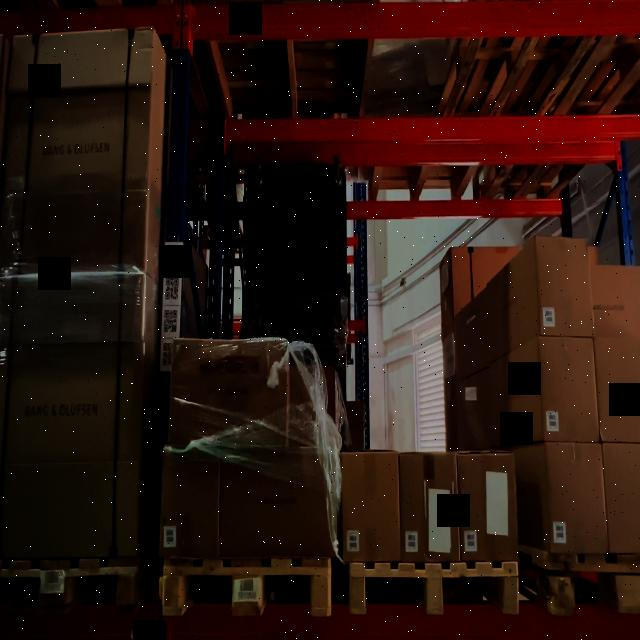box: (168, 337, 290, 450), (219, 449, 336, 557), (456, 450, 519, 563), (546, 442, 608, 555), (339, 451, 401, 563), (159, 446, 220, 559), (399, 453, 460, 564), (539, 336, 600, 444), (536, 237, 595, 338)
